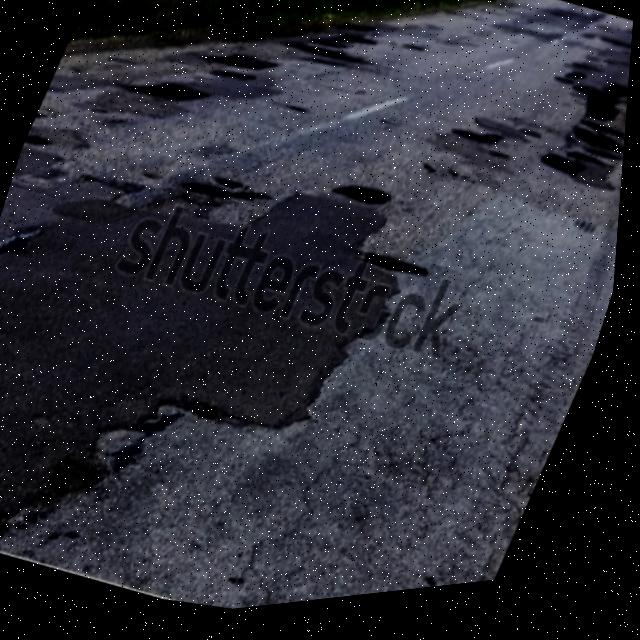Pothole: (178, 166, 278, 236), (355, 239, 447, 309), (126, 63, 217, 126), (326, 173, 403, 237), (448, 123, 514, 172), (538, 152, 595, 205)
